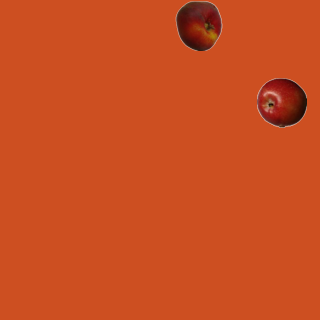Apple Braeburn: (256, 77, 306, 127)
Nectarine Flat: (173, 0, 223, 50)
